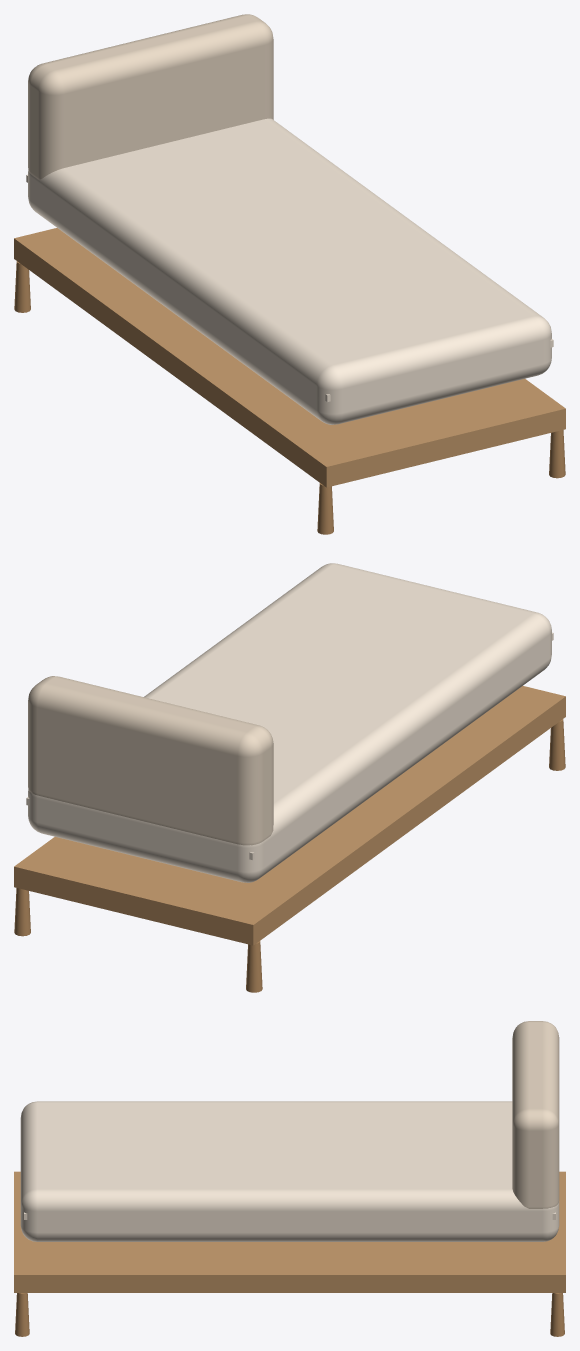
The model's file is chaise.glb.
The picture shows the model from 3 angles, top to bottom: view 1: azimuth 30°, elevation 25°; view 2: azimuth 150°, elevation 25°; view 3: azimuth 270°, elevation 25°; orthographic projection. The views are drawn at different scales.
Visible parts, largest first — view 1: material-2-upholstery, material-1-frame, material-3-accent, material-0-leg; view 2: material-2-upholstery, material-1-frame, material-3-accent, material-0-leg; view 3: material-2-upholstery, material-1-frame, material-3-accent, material-0-leg.
Part boxes in pixels (x1,y1,x2,y2): material-2-upholstery: (26,118,553,424); material-1-frame: (14,228,565,487); material-3-accent: (28,14,273,179); material-0-leg: (14,261,565,534); material-2-upholstery: (26,563,553,882); material-1-frame: (14,686,565,945); material-3-accent: (28,676,273,845); material-0-leg: (14,719,565,992); material-2-upholstery: (20,1101,559,1241); material-1-frame: (14,1171,565,1292); material-3-accent: (512,1021,559,1208); material-0-leg: (15,1293,564,1336).
Bounding box in the file's own units: 0.75 × 0.72 × 1.65.
